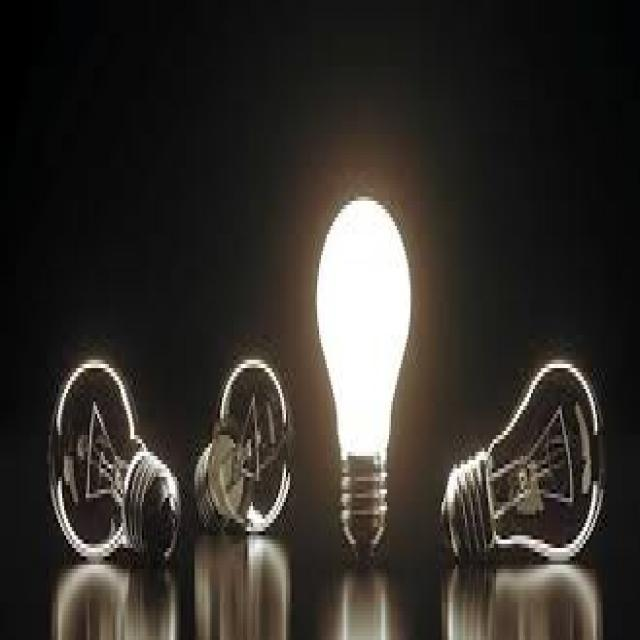bulb_off: (446, 364, 605, 564), (49, 360, 182, 560), (192, 363, 290, 529)
bulb_on: (318, 198, 414, 553)
